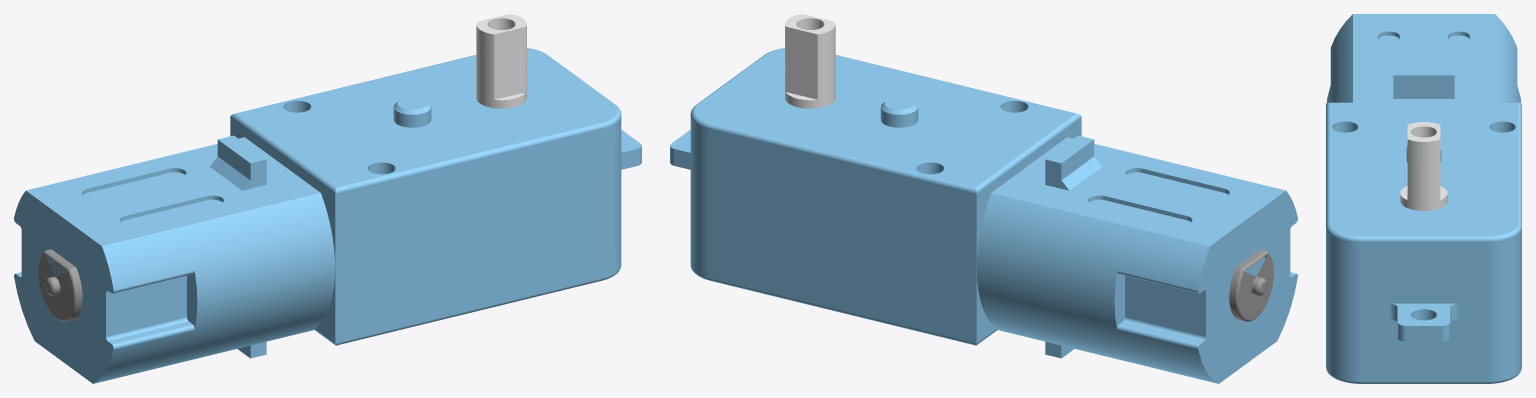
The model's file is adafruit_3802_tt_motor_metal_gear.glb.
3 renders of one model, left to right at view 1: azimuth 30°, elevation 25°; view 2: azimuth 150°, elevation 25°; view 3: azimuth 270°, elevation 25°, orthographic. The views are drawn at different scales.
Parts seen in each view (by area): view 1: body, shaft; view 2: body, shaft; view 3: body, shaft.
Boxes of the visible parts, <box> form: body: <box>14,48,641,383</box>; shaft: <box>476,14,526,108</box>; body: <box>670,48,1297,383</box>; shaft: <box>785,14,835,108</box>; body: <box>1326,14,1521,383</box>; shaft: <box>1400,122,1447,210</box>.
Size of the model in its own units: 0.072 by 0.0303 by 0.0224.
